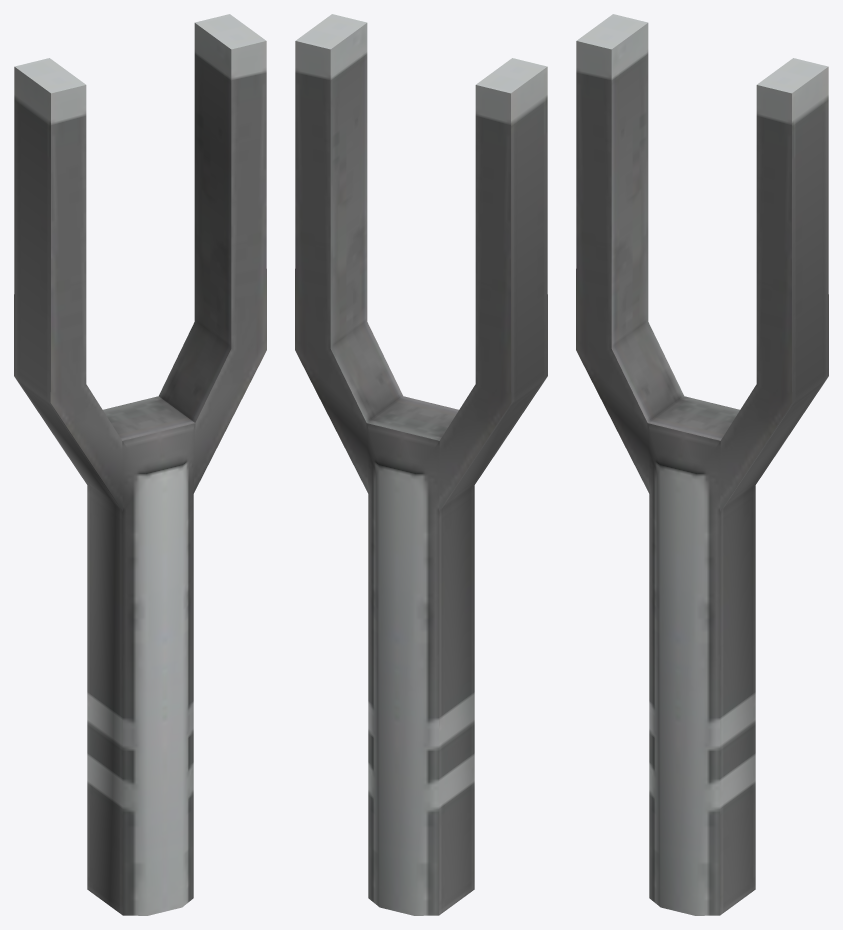
The model's file is Part - Column 02-7WLm8NY4.glb.
3 views of the same model, side by side, from view 1: azimuth 30°, elevation 25°; view 2: azimuth 150°, elevation 25°; view 3: azimuth 330°, elevation 25° (orthographic).
Visible parts, largest first — view 1: Column_02; view 2: Column_02; view 3: Column_02.
Part boxes in pixels (left/top/right/bottom): Column_02: left=14, top=14, right=266, bottom=915; Column_02: left=295, top=14, right=547, bottom=915; Column_02: left=576, top=14, right=828, bottom=915.
Bounding box in the file's own units: 0.2732 × 1.02 × 0.1068.
1 material, 1 textured.
